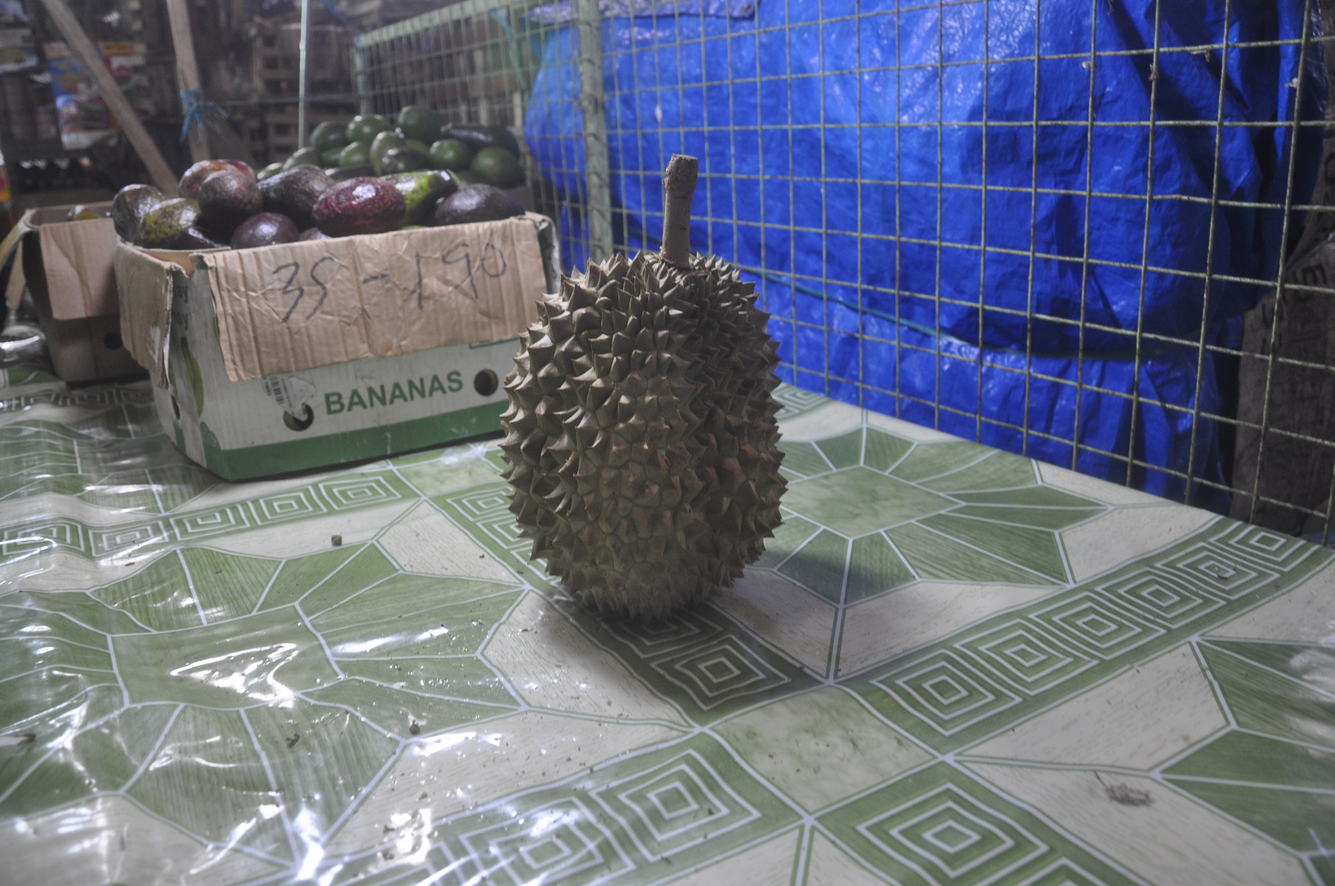mature: (501, 155, 786, 620)
